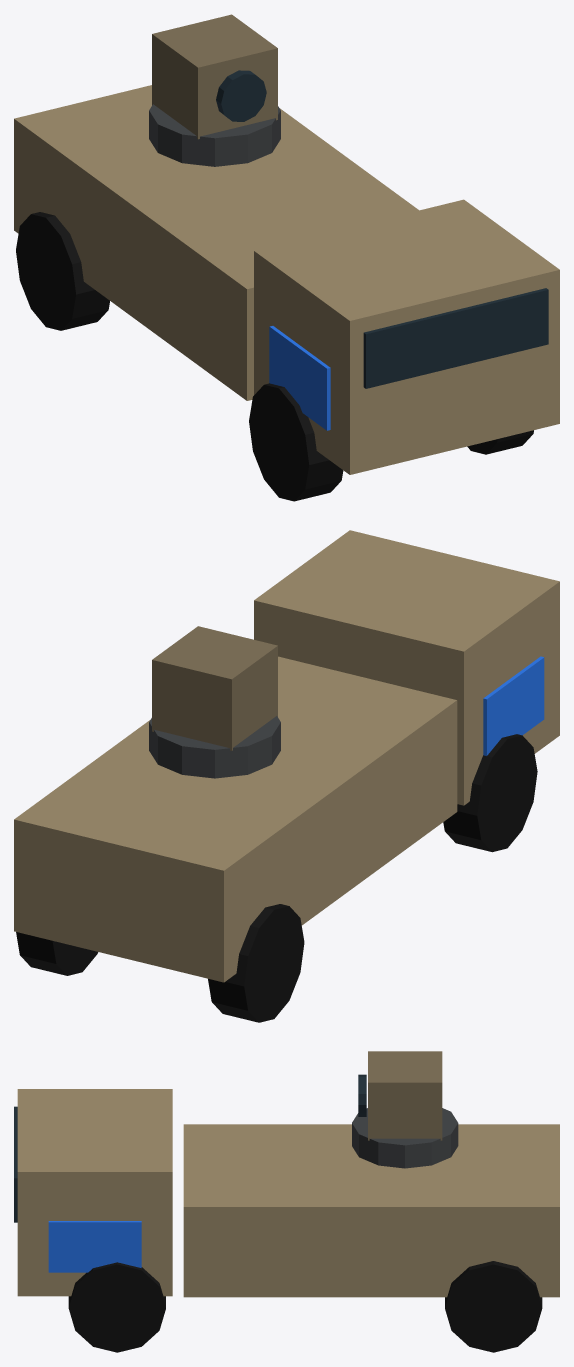
File: ae_laser_cuas.glb
The picture shows the model from 3 angles, top to bottom: view 1: azimuth 30°, elevation 25°; view 2: azimuth 150°, elevation 25°; view 3: azimuth 270°, elevation 25°; orthographic projection. The views are drawn at different scales.
Visible parts, largest first — view 1: body, cab, windshield, barrel, wheel_l1, wheel_l0, turret, team_door_l, laser_lens, wheel_r0; view 2: body, cab, barrel, wheel_l1, wheel_l0, turret, team_door_l, wheel_r1; view 3: body, cab, wheel_r1, wheel_r0, barrel, team_door_r, turret, windshield, laser_lens.
Part boxes in pixels (x1,y1,x2,y2): body: [14, 85, 418, 400]; cab: [254, 199, 559, 474]; windshield: [363, 288, 548, 388]; barrel: [152, 14, 277, 139]; wheel_l1: [16, 212, 109, 330]; wheel_l0: [249, 383, 343, 501]; turret: [149, 104, 280, 166]; team_door_l: [269, 326, 330, 430]; laser_lens: [216, 70, 266, 121]; wheel_r0: [467, 430, 533, 454]; body: [14, 656, 457, 982]; cab: [254, 530, 559, 805]; barrel: [152, 626, 277, 750]; wheel_l1: [208, 904, 304, 1022]; wheel_l0: [443, 734, 537, 852]; turret: [149, 716, 280, 778]; team_door_l: [483, 656, 544, 755]; wheel_r1: [16, 932, 98, 975]; body: [183, 1124, 559, 1297]; cab: [17, 1089, 172, 1296]; wheel_r1: [445, 1261, 542, 1352]; wheel_r0: [68, 1262, 165, 1352]; barrel: [368, 1051, 442, 1140]; team_door_r: [48, 1221, 141, 1272]; turret: [352, 1108, 458, 1168]; windshield: [14, 1106, 17, 1222]; laser_lens: [358, 1074, 366, 1116].
Size of the model in its own units: 2.5 by 3.12 by 6.42.
